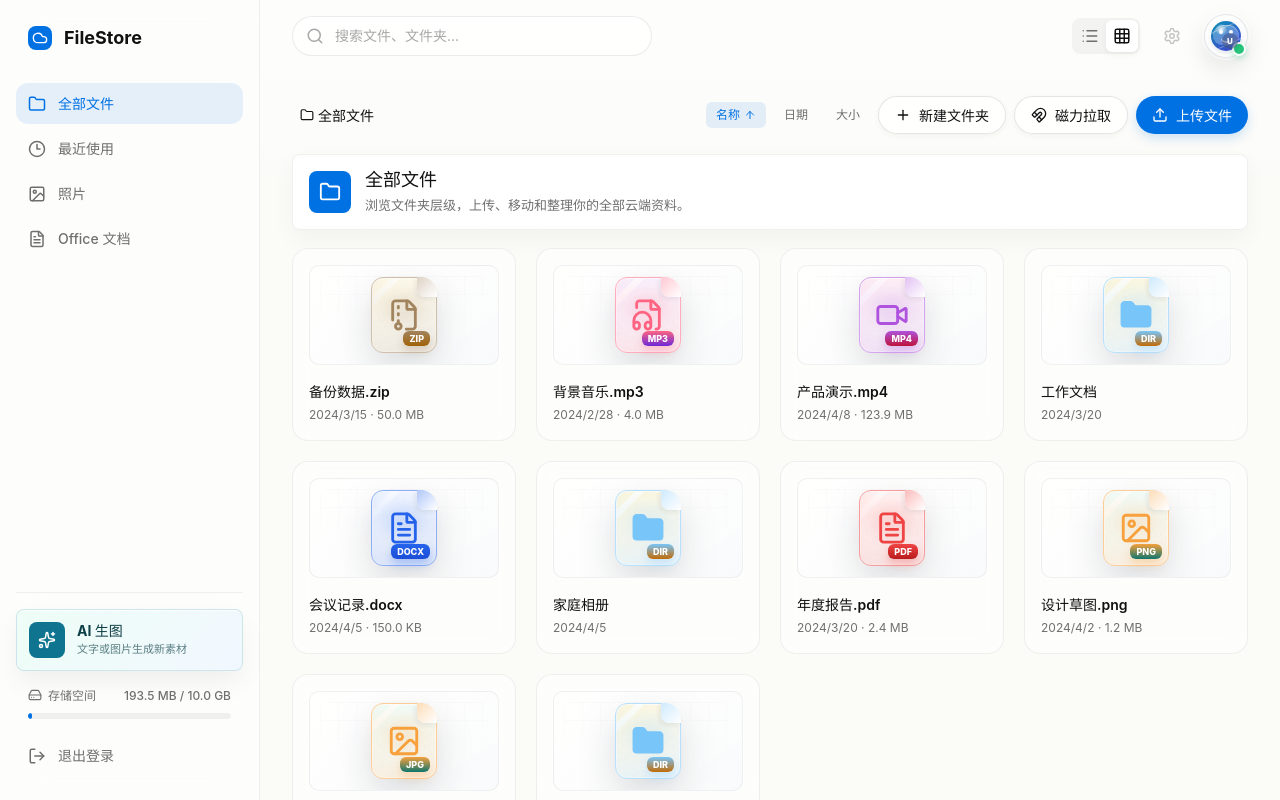
Test case: FileManagerPage › opens create folder dialog
expect the text "工作文档" is shown: met, box [1041, 383, 1097, 400]
Click the button "新建文件夹": (942, 115) [878, 96, 1006, 134]
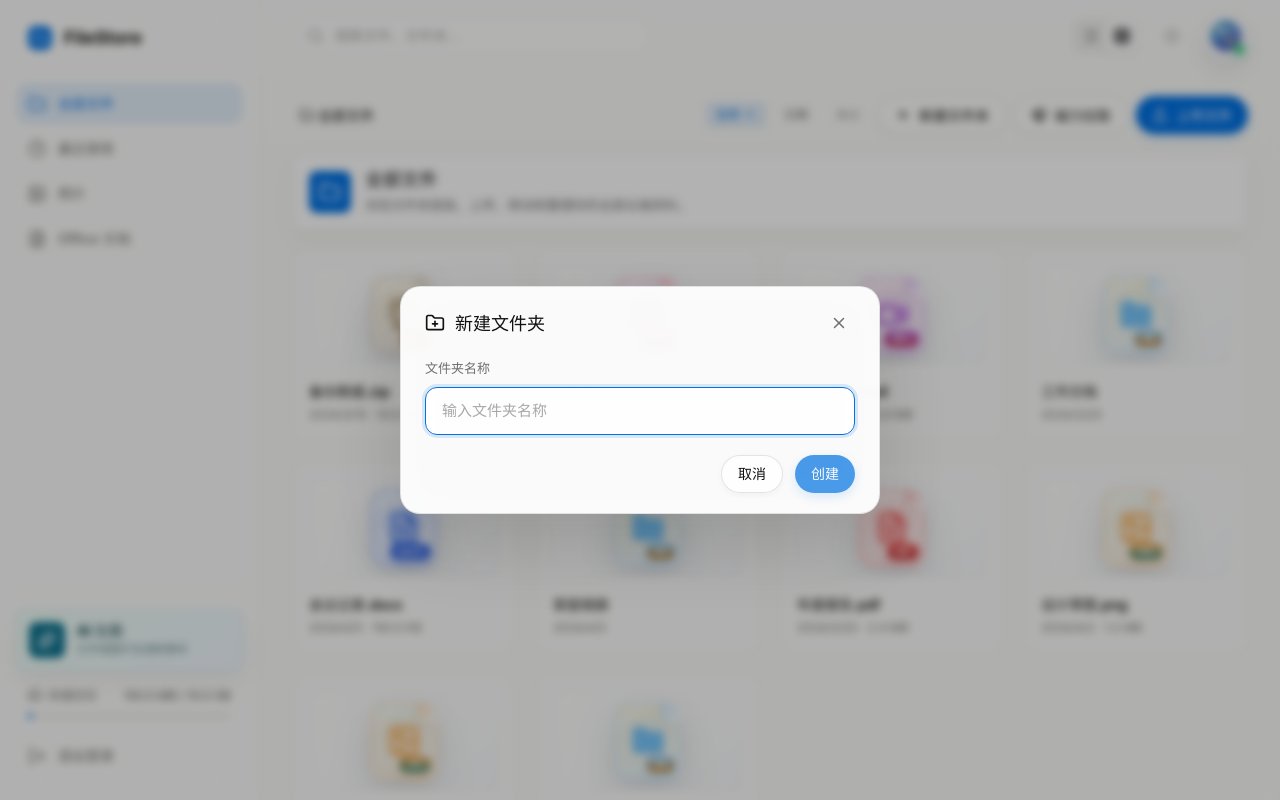
expect the dialog "新建文件夹" is shown: met, box [400, 286, 880, 514]
expect the field labelled "文件夹名称" is shown: met, box [425, 387, 855, 435]
